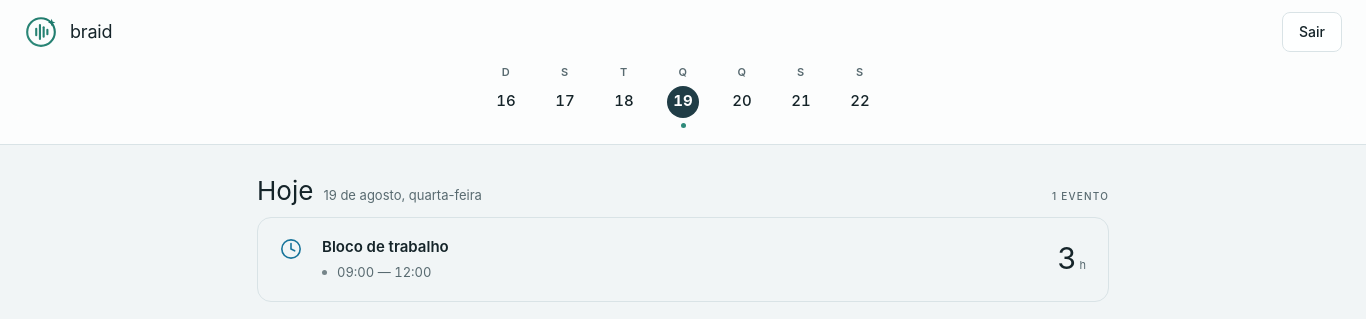
Test case: loads only the day selected in the week header
Expected: the heading "Bloco de trabalho" is shown, x1=322 y1=236 x2=1037 y2=257
Click the button named "18 de agosto de 2026".
click(624, 96)  # box x1=601 y1=60 x2=647 y2=132
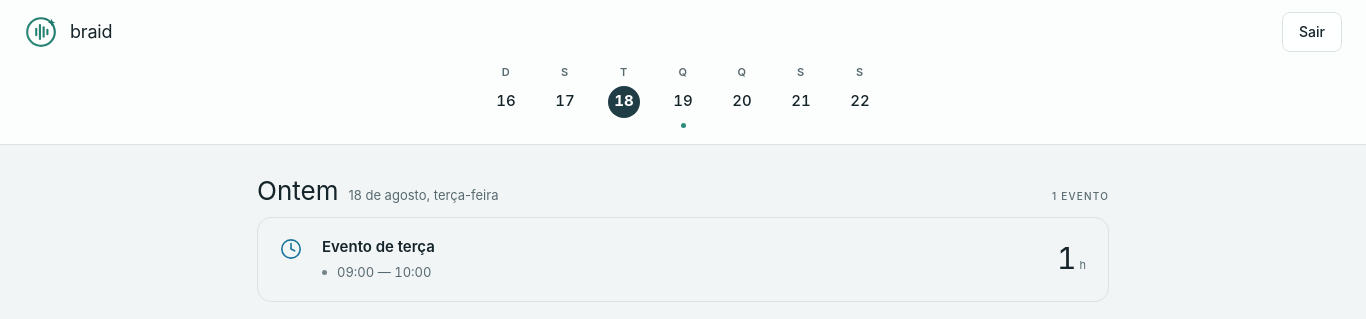
Expected: the heading "Evento de terça" is shown, x1=322 y1=236 x2=1037 y2=257
Expected: the button "Bloco de trabalho" is gone
